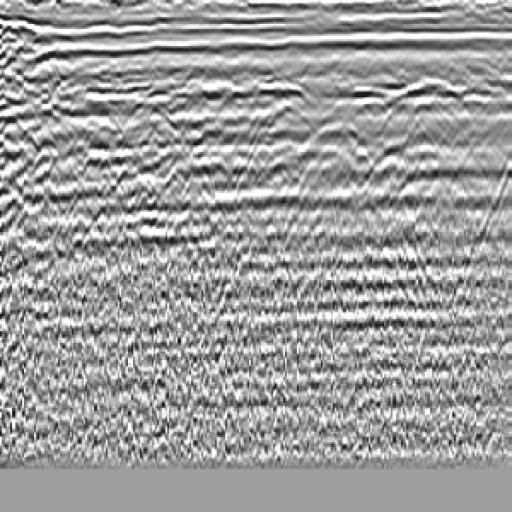metalic: (171, 62, 373, 256), (341, 67, 509, 250)
